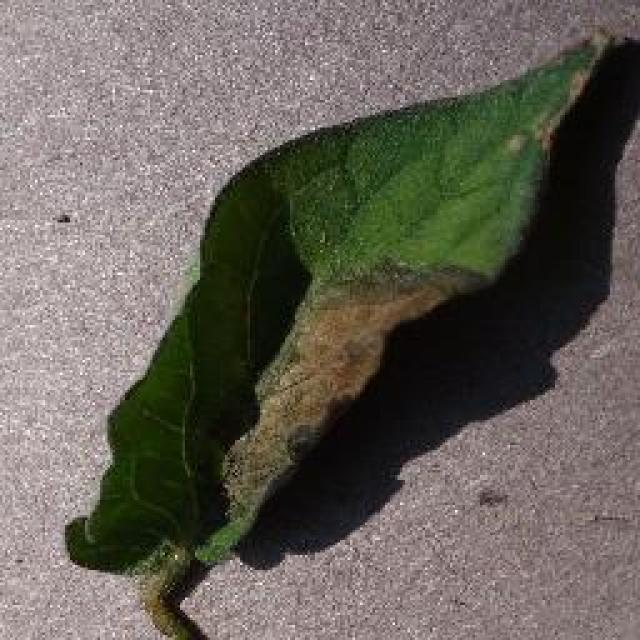Tomato Late Blight: (170, 245, 527, 597)
